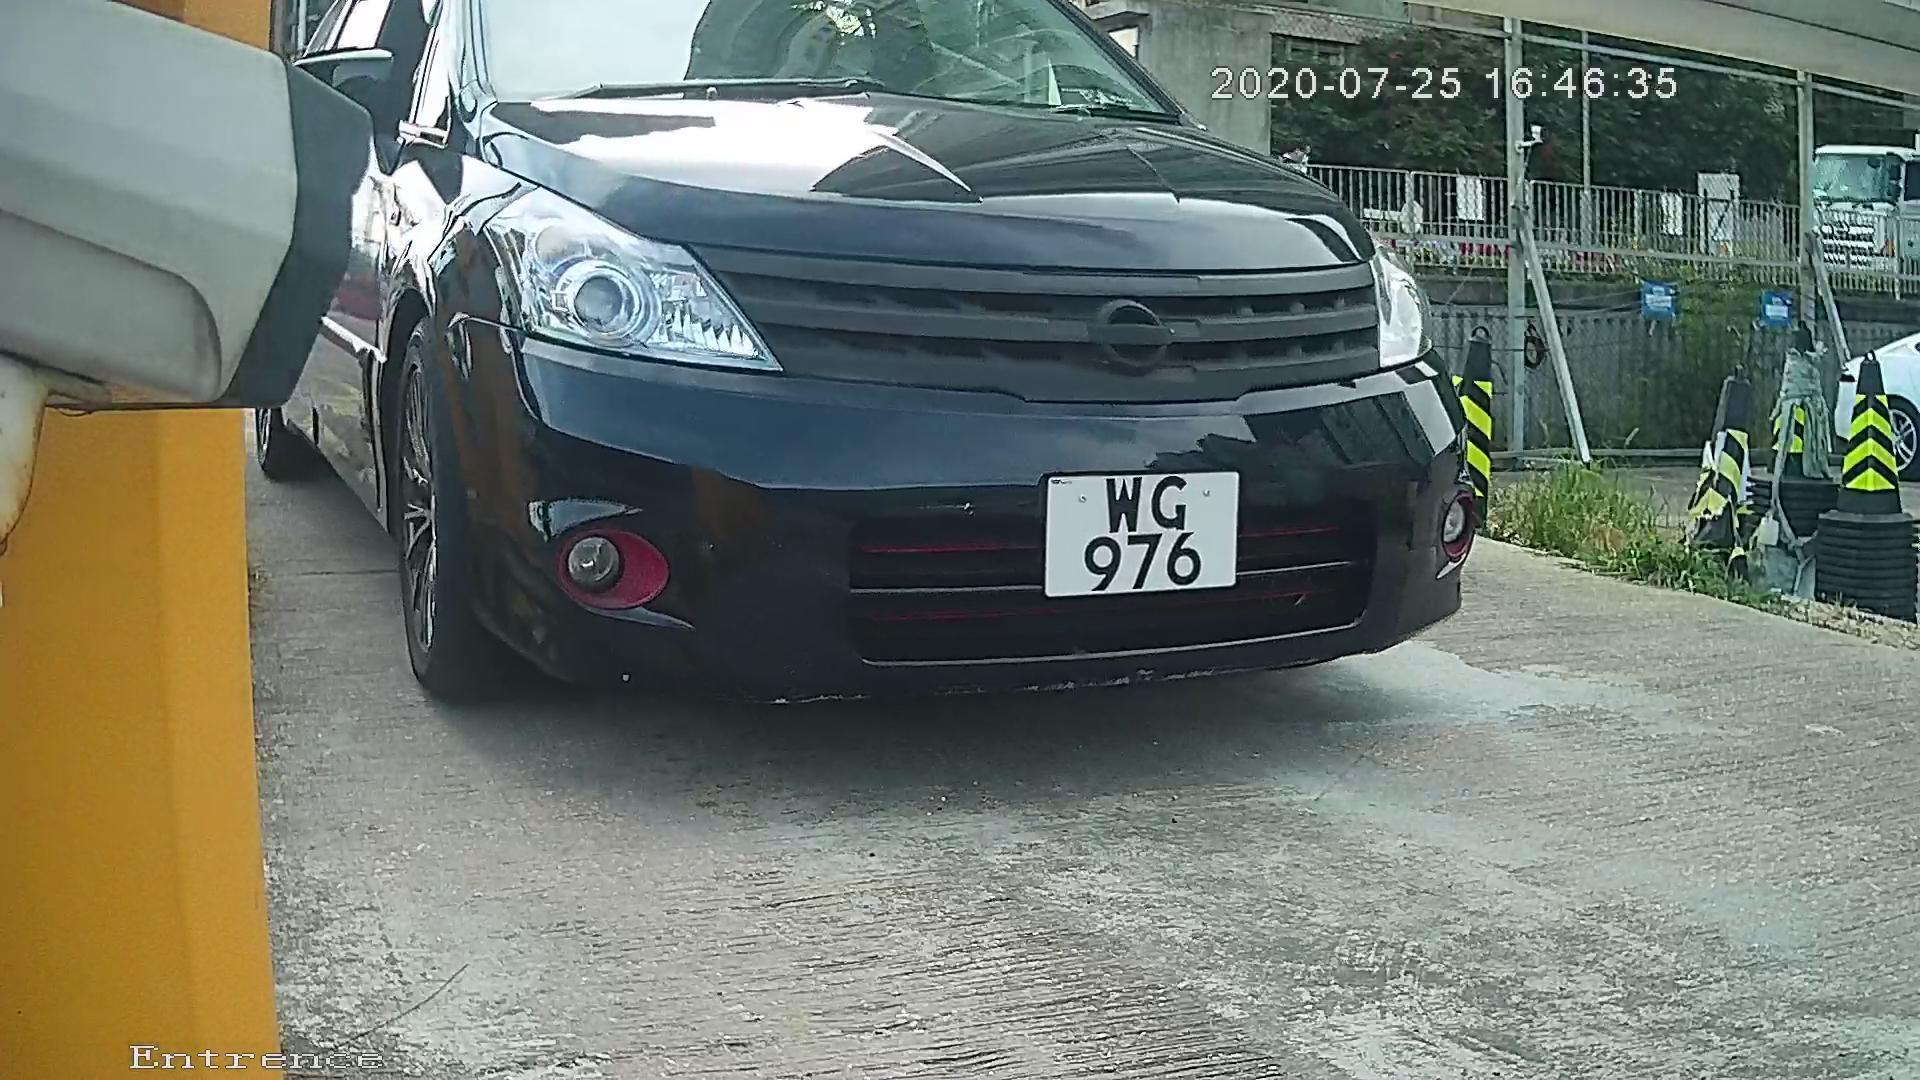privatecar: (241, 1, 1604, 753)
